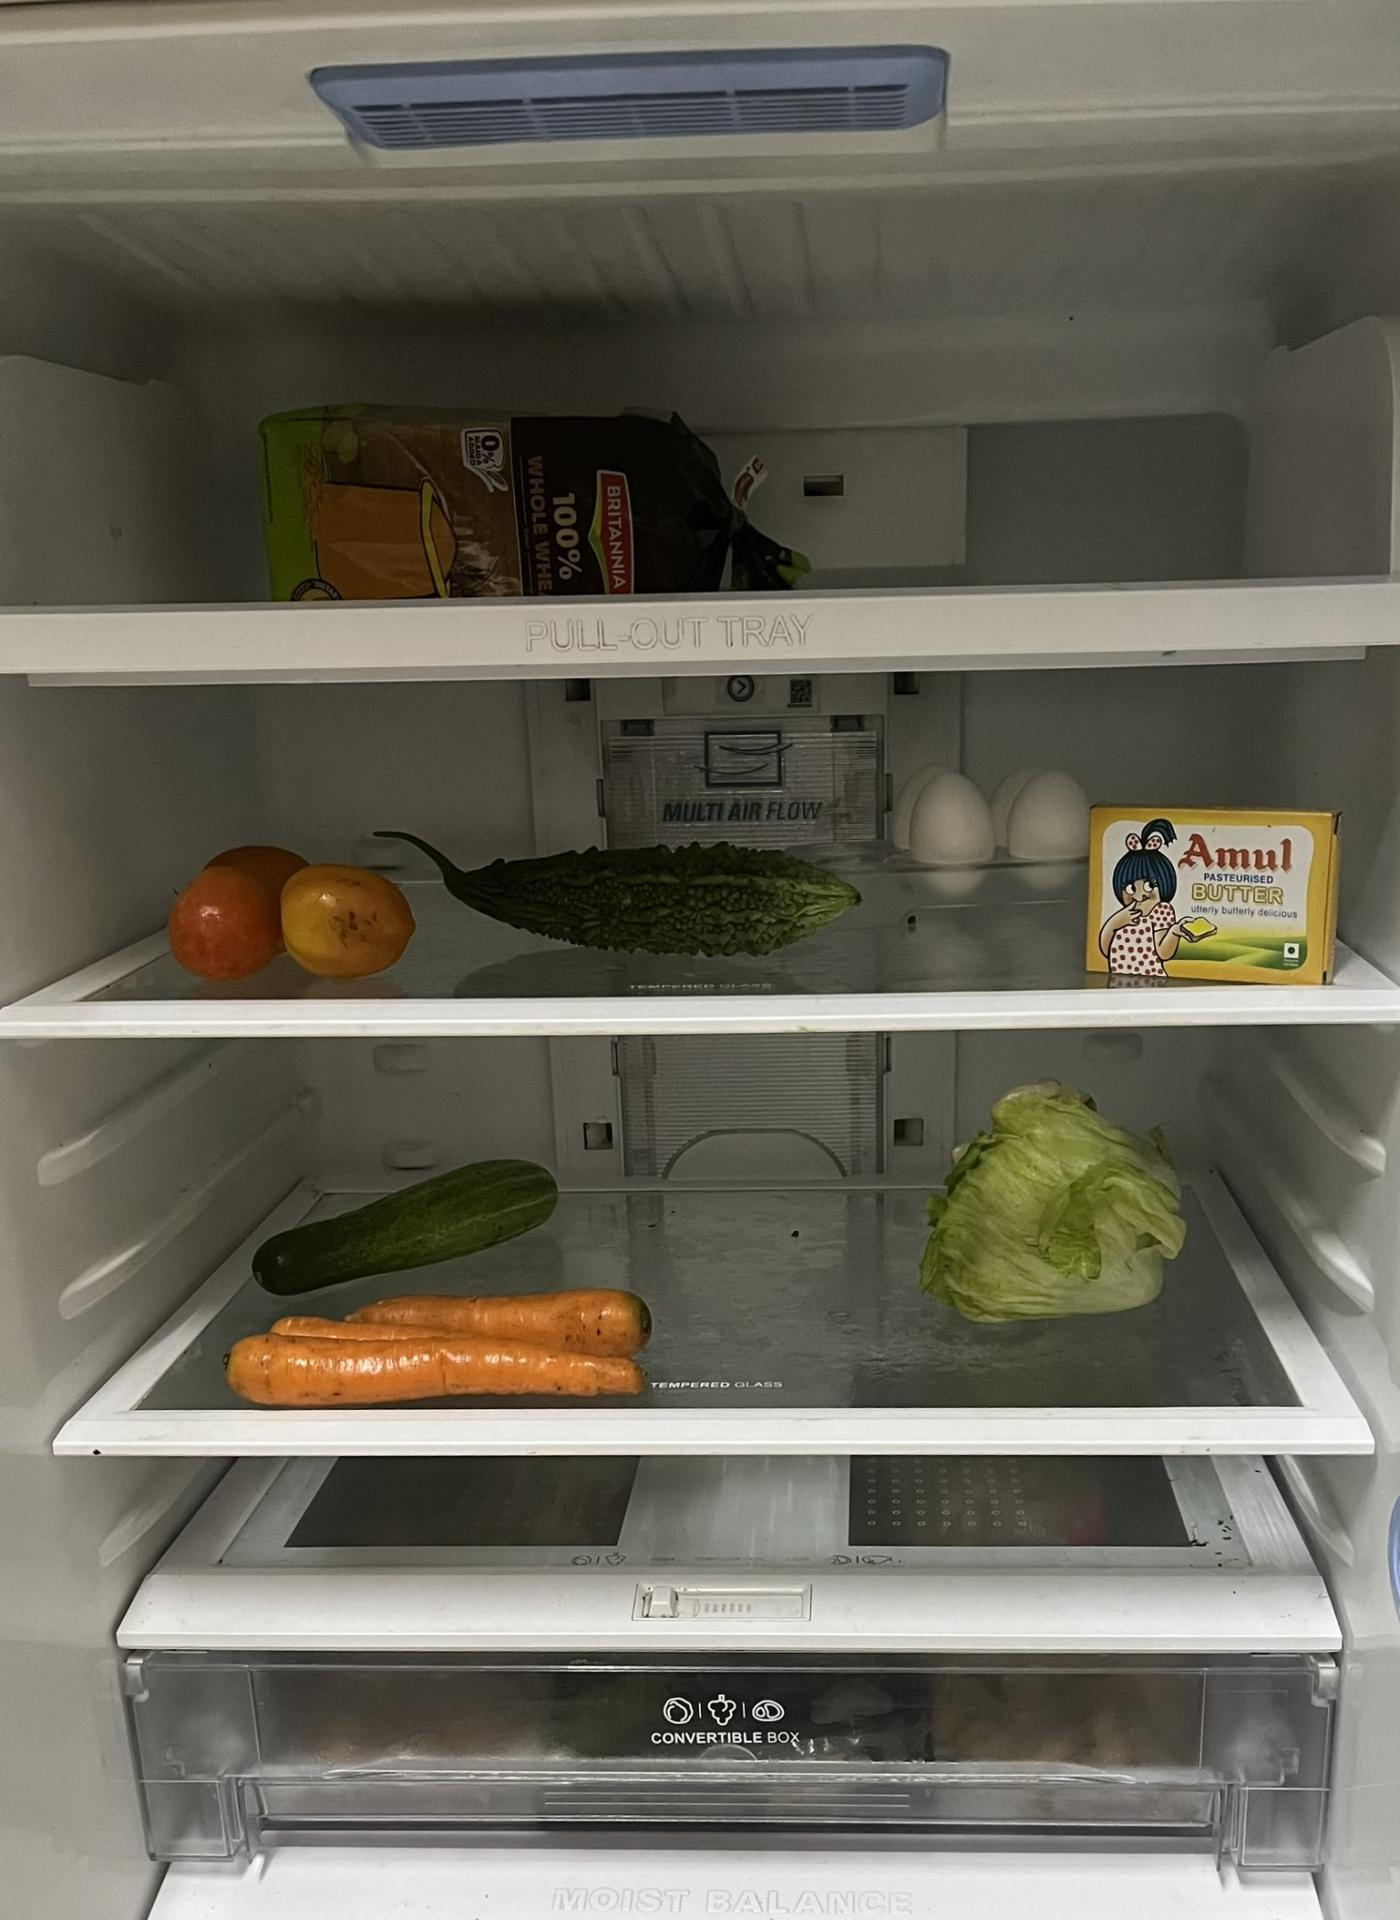butter: (1090, 815, 1324, 984)
carrots: (228, 1285, 650, 1400)
cucumber: (283, 413, 768, 587), (261, 1163, 559, 1294)
egg: (902, 763, 1088, 900)
lettuce: (911, 1085, 1179, 1334)
tomato: (158, 841, 416, 984)
